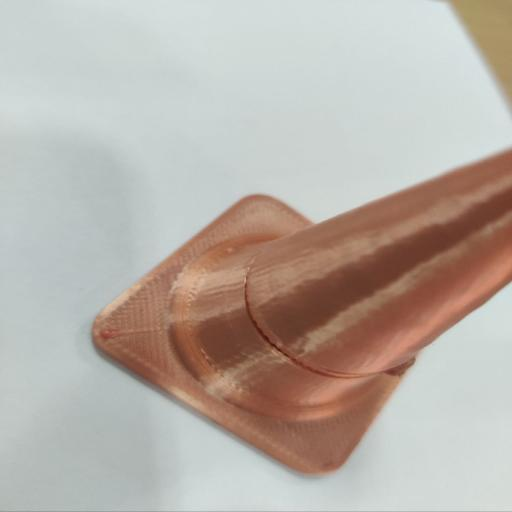cracks: (222, 263, 394, 388)
